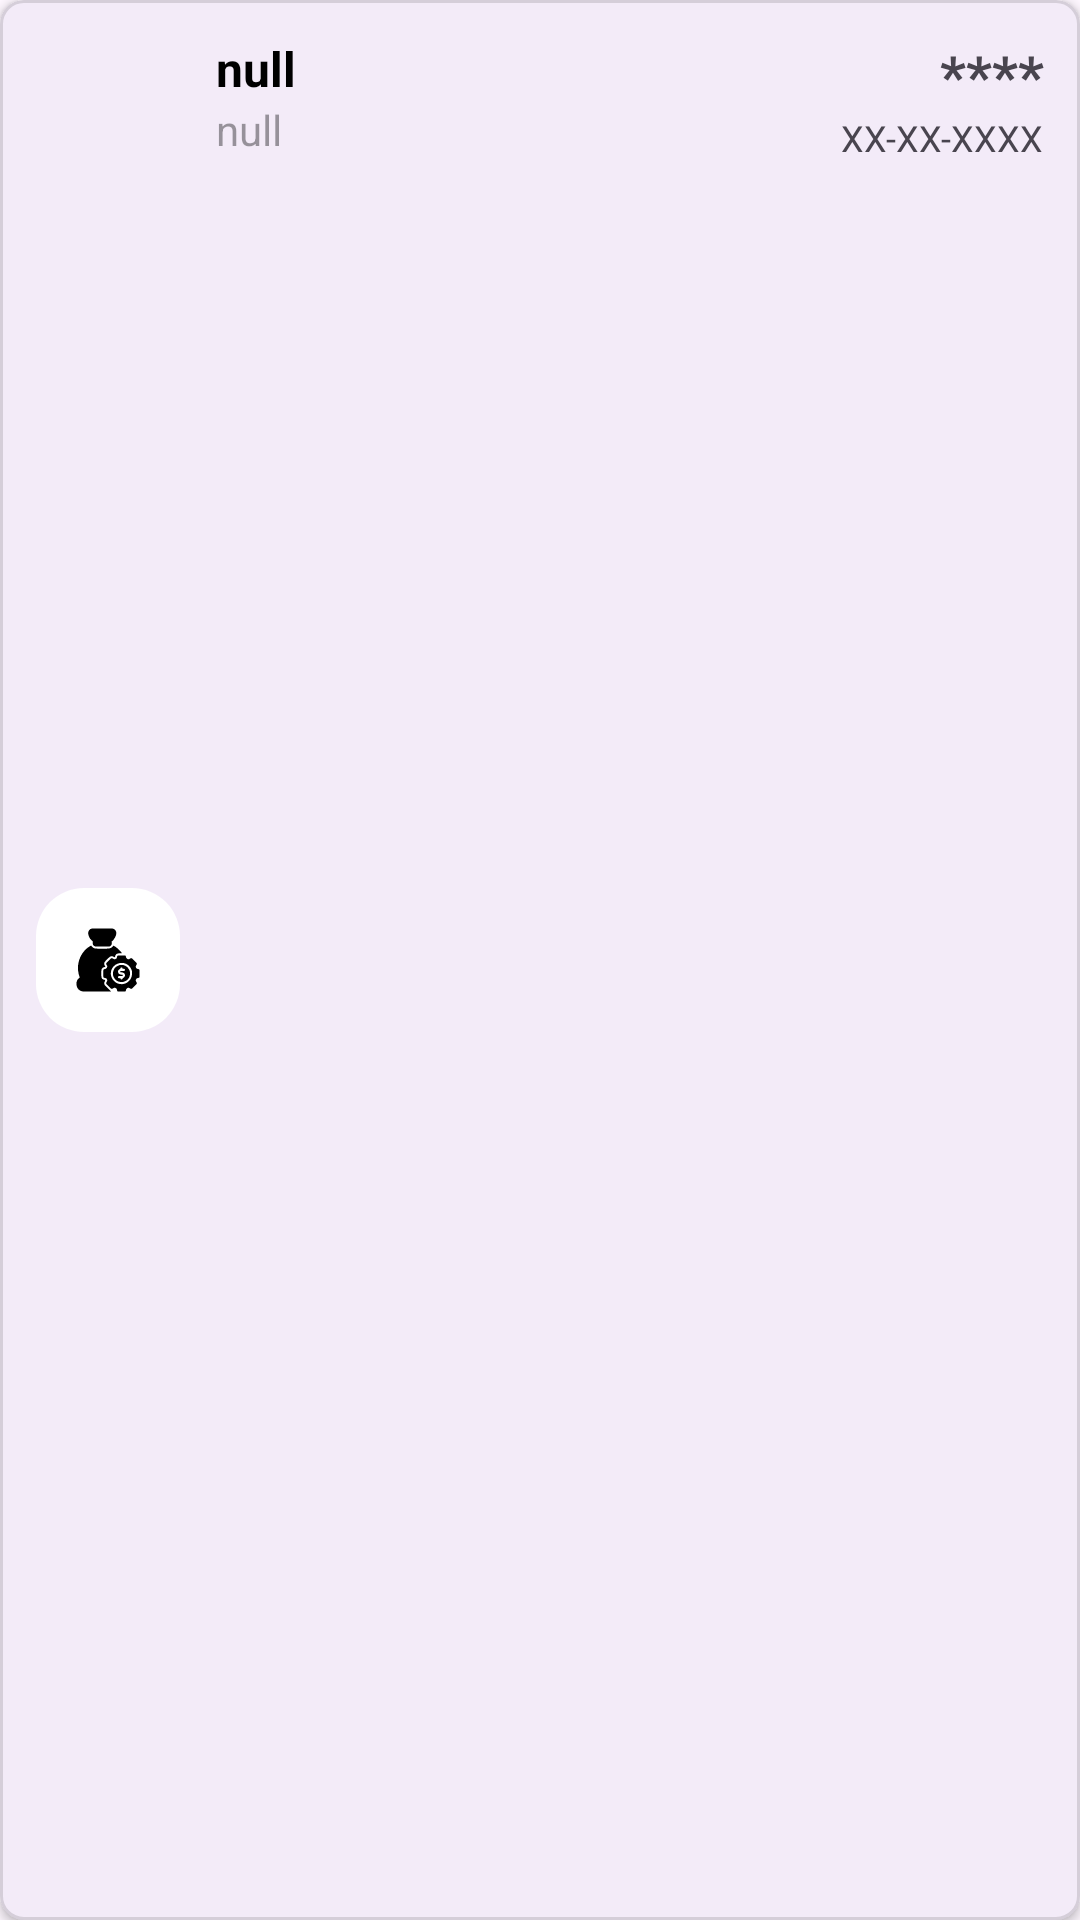

Where to tap for icons on this 1080×1920 app screen, as (x,y):
gross: (108,960)
